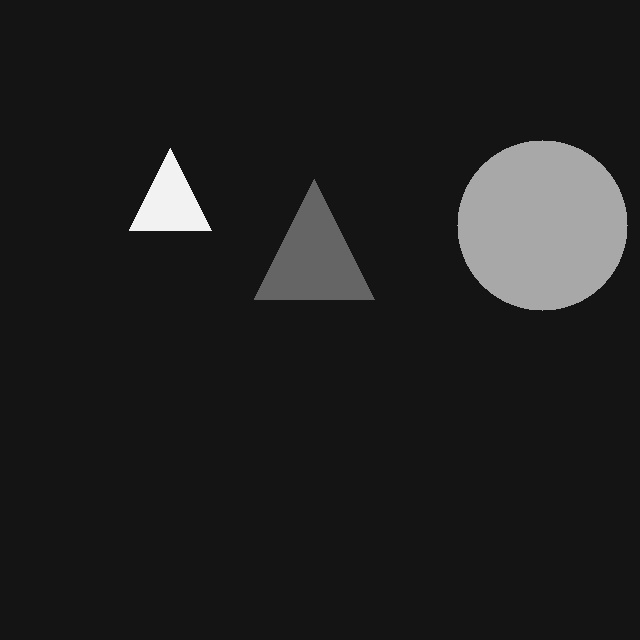circle: (457, 140, 627, 310)
triangle: (254, 179, 374, 299), (129, 148, 211, 230)
